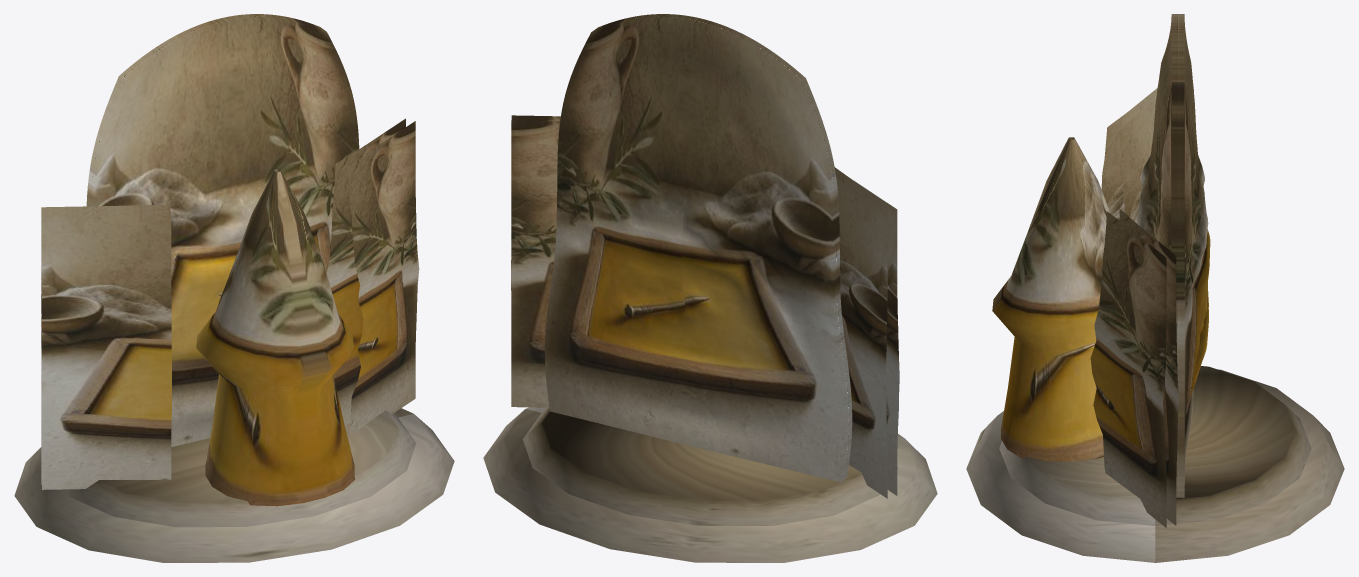
File: held-together-12.glb
The picture shows the model from 3 angles, left to right: view 1: azimuth 30°, elevation 25°; view 2: azimuth 150°, elevation 25°; view 3: azimuth 270°, elevation 25°; orthographic projection. The views are drawn at different scales.
Visible parts, largest first — view 1: PaintingSculptureMonument; view 2: PaintingSculptureMonument; view 3: PaintingSculptureMonument.
Part boxes in pixels (bbox=[...]): PaintingSculptureMonument: bbox=[14, 14, 454, 562]; PaintingSculptureMonument: bbox=[483, 14, 937, 562]; PaintingSculptureMonument: bbox=[966, 14, 1344, 562].
Size of the model in its own units: 2.76 by 2.99 by 2.35.
1 material, 1 textured.
